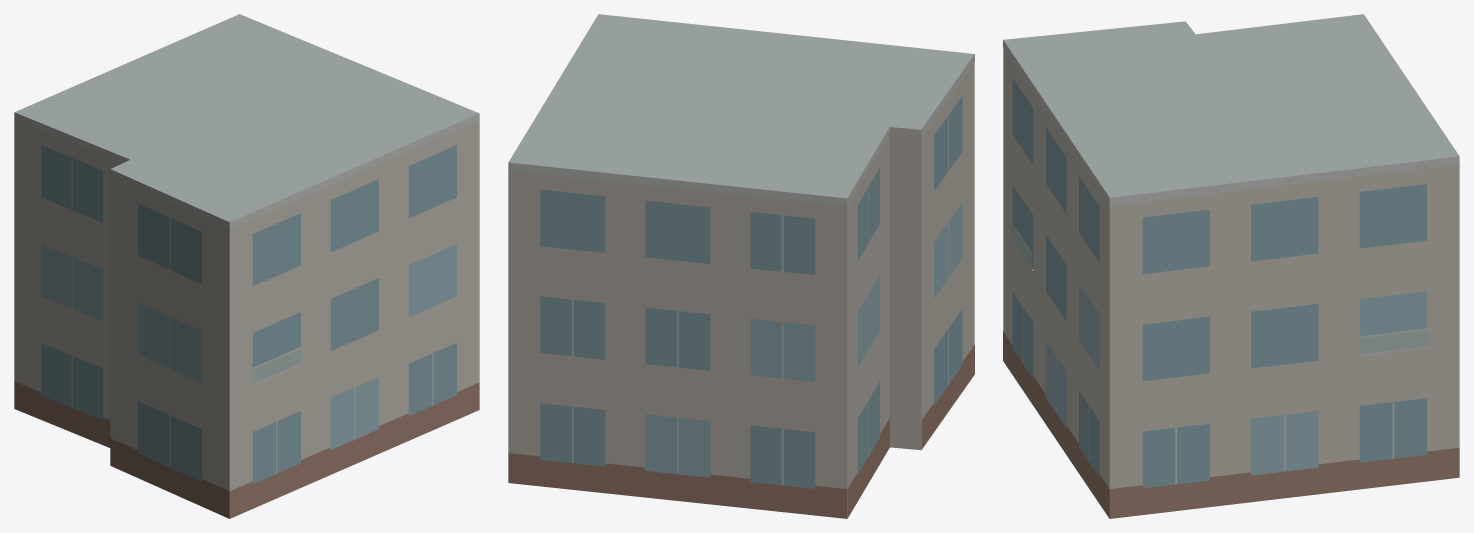
File: survey-upis-32585997.glb
3 renders of one model, left to right at view 1: azimuth 30°, elevation 25°; view 2: azimuth 150°, elevation 25°; view 3: azimuth 270°, elevation 25°, orthographic. The views are drawn at different scales.
Visible parts, largest first — view 1: survey-upis-32585997.tmp; view 2: survey-upis-32585997.tmp; view 3: survey-upis-32585997.tmp.
Part boxes in pixels (<box>): survey-upis-32585997.tmp: <box>14,14,479,518</box>; survey-upis-32585997.tmp: <box>508,14,974,518</box>; survey-upis-32585997.tmp: <box>1003,14,1459,518</box>.
Size of the model in its own units: 12.16 by 9.9 by 12.77.
